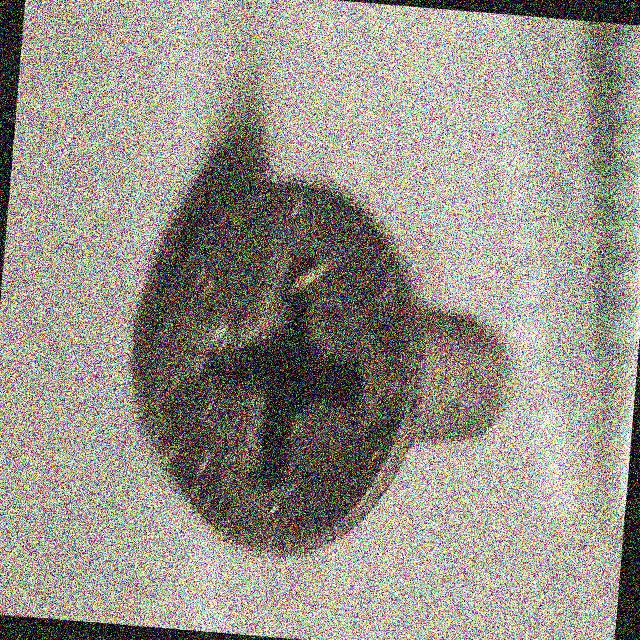phillips: (127, 164, 439, 566)
